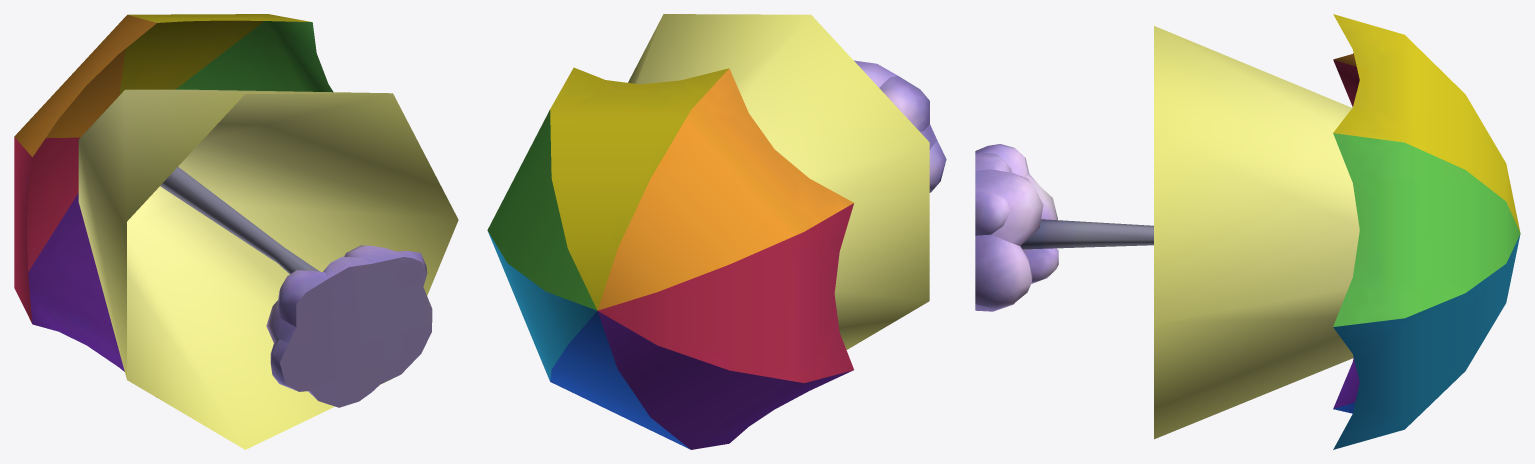
File: UmbrellaLamp.fbx
3 renders of one model, left to right at view 1: azimuth 30°, elevation 25°; view 2: azimuth 150°, elevation 25°; view 3: azimuth 270°, elevation 25°, orthographic. The views are drawn at different scales.
Parts seen in each view (by area): view 1: UmbrellaLampLight, UmbrellaLamp; view 2: UmbrellaLamp, UmbrellaLampLight; view 3: UmbrellaLamp, UmbrellaLampLight.
Part boxes in pixels (x1,y1,x2,y2): UmbrellaLampLight: [78, 89, 458, 449]; UmbrellaLamp: [14, 14, 432, 407]; UmbrellaLamp: [487, 60, 946, 449]; UmbrellaLampLight: [628, 14, 929, 349]; UmbrellaLamp: [975, 14, 1520, 449]; UmbrellaLampLight: [1154, 26, 1359, 439].
Bounding box in the file's own units: 109 × 112 × 140.
